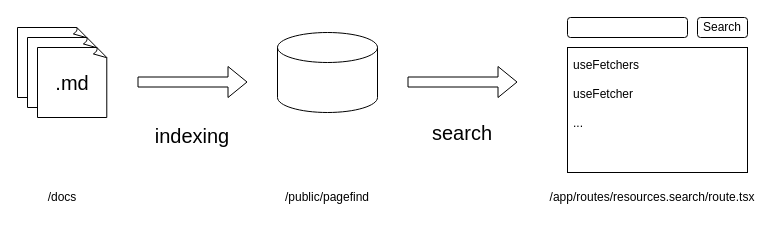
The diagram is 772 pixels wide and 230 high, and some of its shapes have lost their labels. Each missing label, with the centre of its shape:
Index: point 327,72
usefetcher: point 627,27
